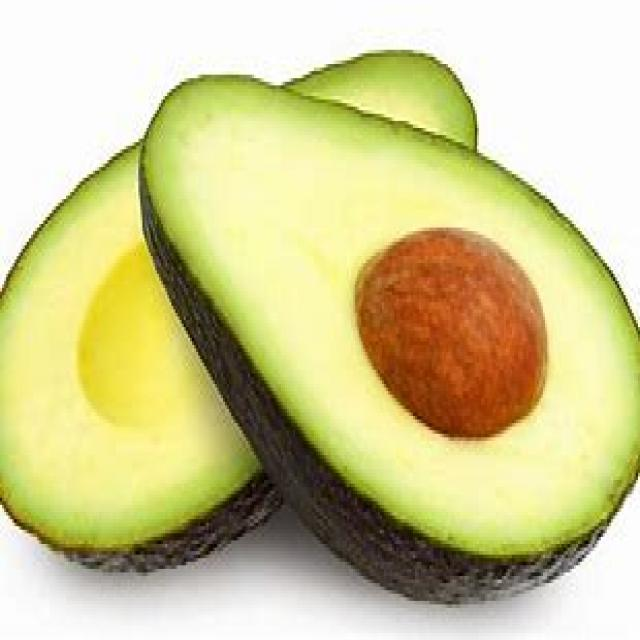avocado: (132, 39, 640, 619), (0, 186, 286, 586)
